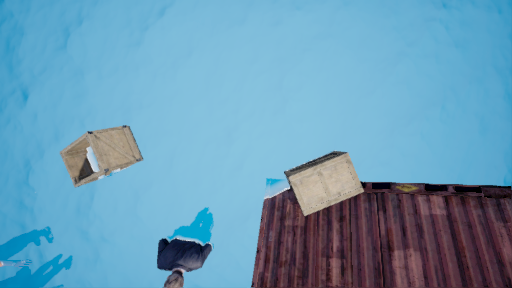person: (156, 206, 217, 286)
